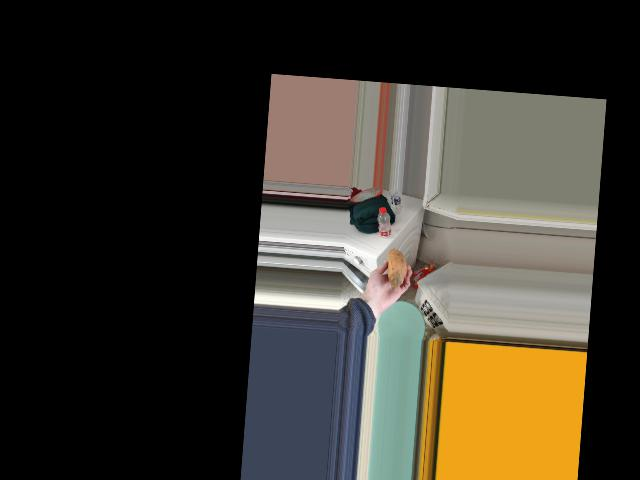sweet_potato: (382, 245, 405, 293)
